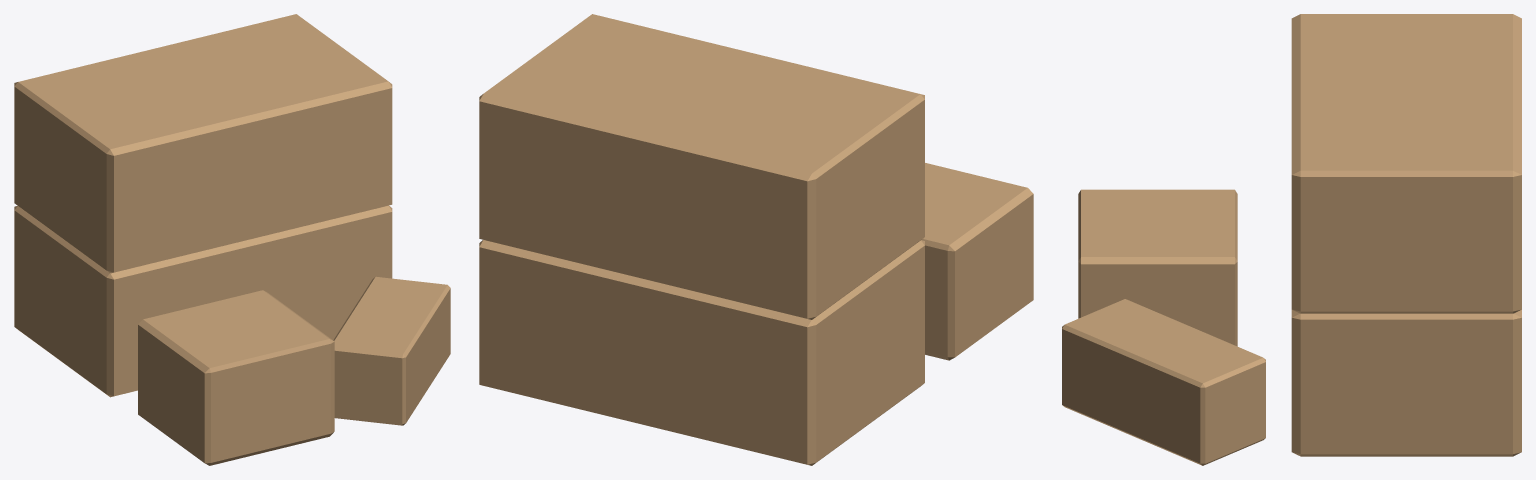
Rendered from Prop_Boxes_B.fbx.
3 renders of one model, left to right at view 1: azimuth 30°, elevation 25°; view 2: azimuth 150°, elevation 25°; view 3: azimuth 270°, elevation 25°, orthographic. The views are drawn at different scales.
Visible parts, largest first — view 1: Prop_Boxes_B; view 2: Prop_Boxes_B; view 3: Prop_Boxes_B.
Part boxes in pixels (<box>): Prop_Boxes_B: <box>14,14,450,465</box>; Prop_Boxes_B: <box>479,14,1033,465</box>; Prop_Boxes_B: <box>1062,14,1521,465</box>.
Bounding box in the file's own units: 130 × 113 × 89.26.
